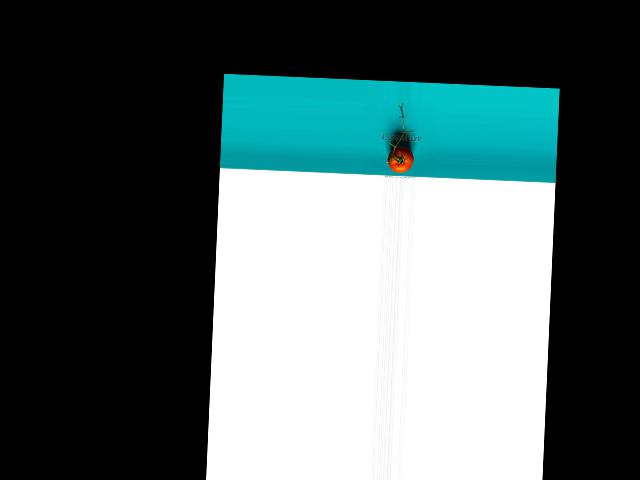tomato: (386, 146, 413, 172)
